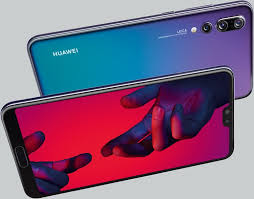huawei: (1, 67, 243, 199)
